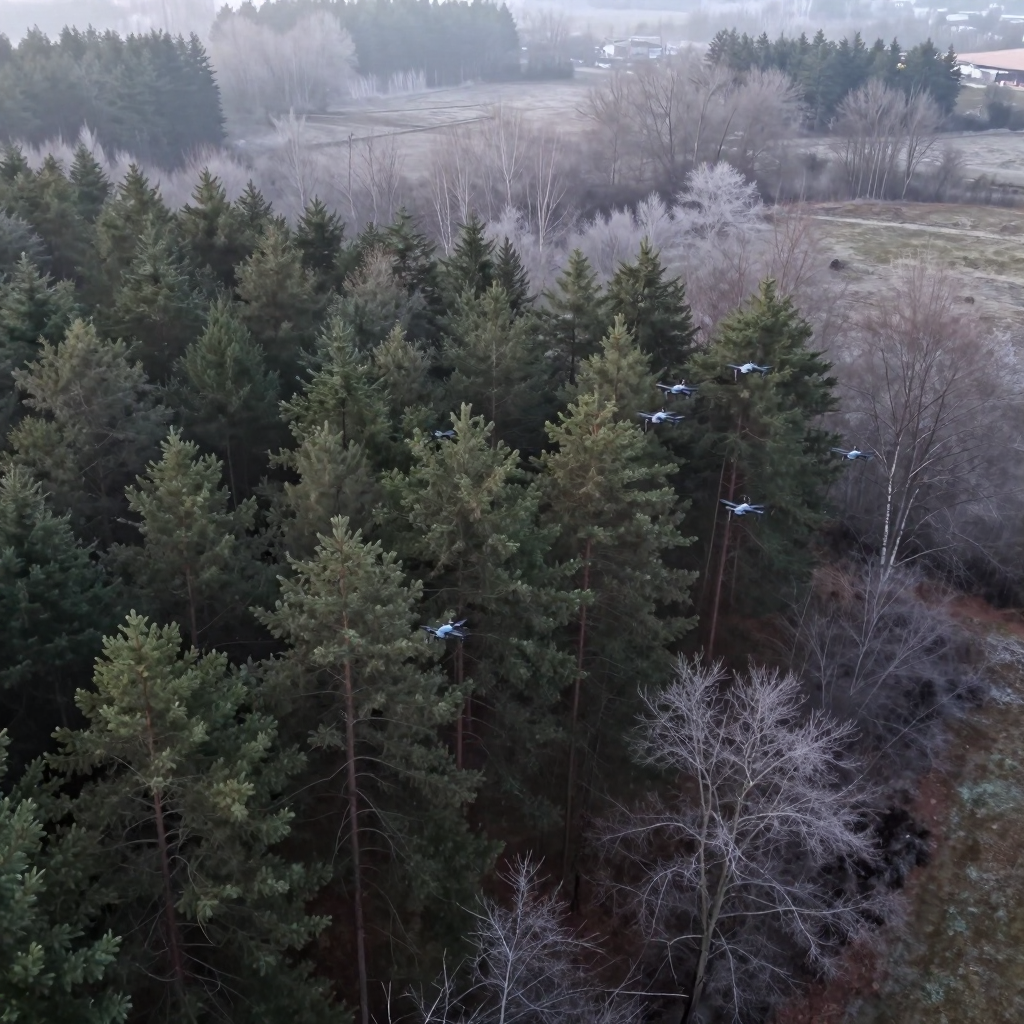drone: (649, 375, 701, 404), (635, 407, 686, 435), (419, 618, 471, 643), (725, 357, 777, 381), (719, 495, 765, 517), (830, 446, 874, 462)
